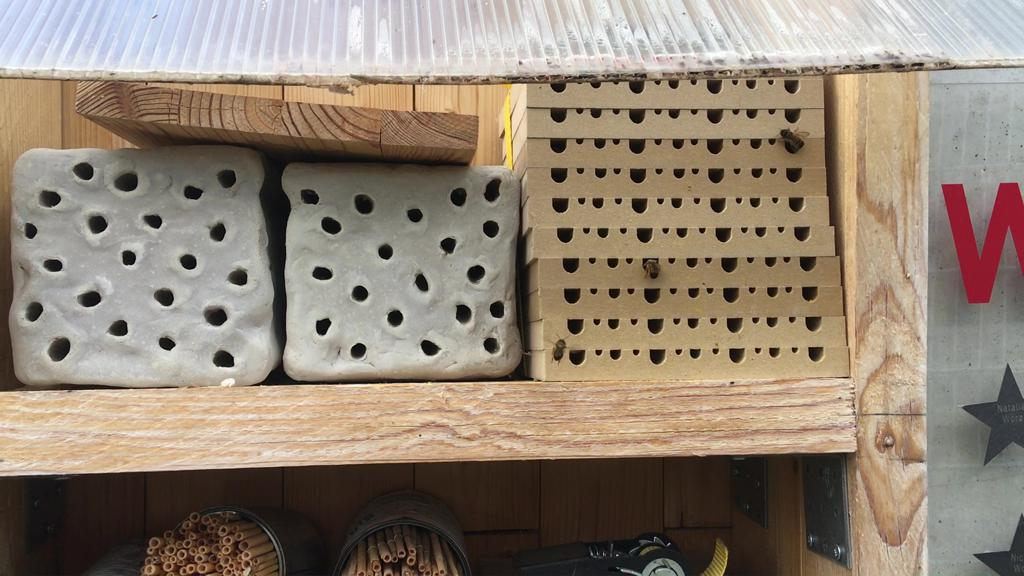bee: (633, 255, 668, 280)
